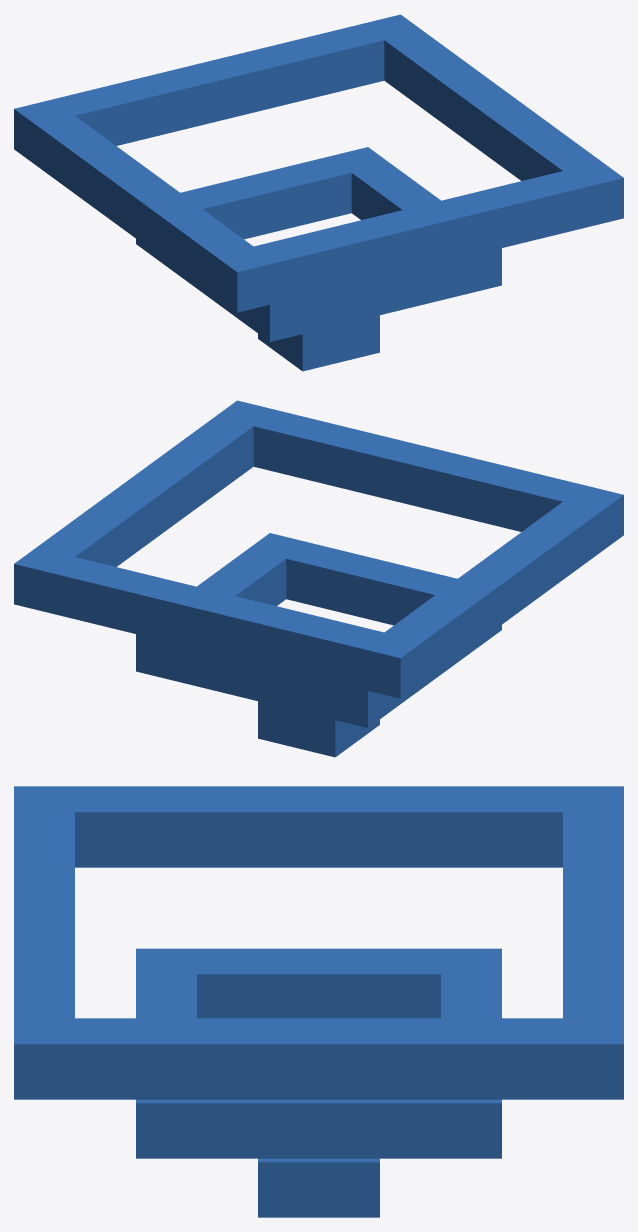
Rendered from Ray.obj.
3 views of the same model, one above another, from view 1: azimuth 30°, elevation 25°; view 2: azimuth 150°, elevation 25°; view 3: azimuth 270°, elevation 25° (orthographic). The views are drawn at different scales.
Bounding box in the file's own units: 1 × 0.5 × 1.
Materials: 1 (1 with a texture image).
